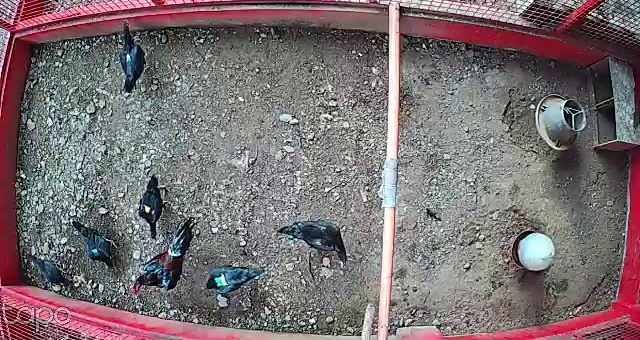Chicken: (276, 215, 349, 268), (70, 218, 121, 271), (117, 13, 148, 94), (199, 263, 265, 300), (136, 169, 171, 238), (27, 251, 77, 292)
Rooster: (131, 222, 202, 299)
Saddle_Color_Blue: (90, 249, 100, 254)
Saddle_Color_White: (126, 55, 130, 58)
Saddle_Color_Yellow: (140, 203, 154, 215)
Saddle_Color_YellowGreen: (214, 273, 229, 288)
